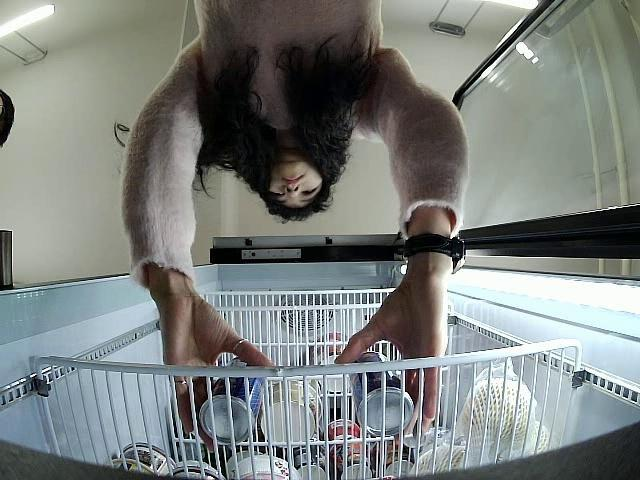16_hot6: (200, 356, 262, 442), (352, 350, 414, 434)
